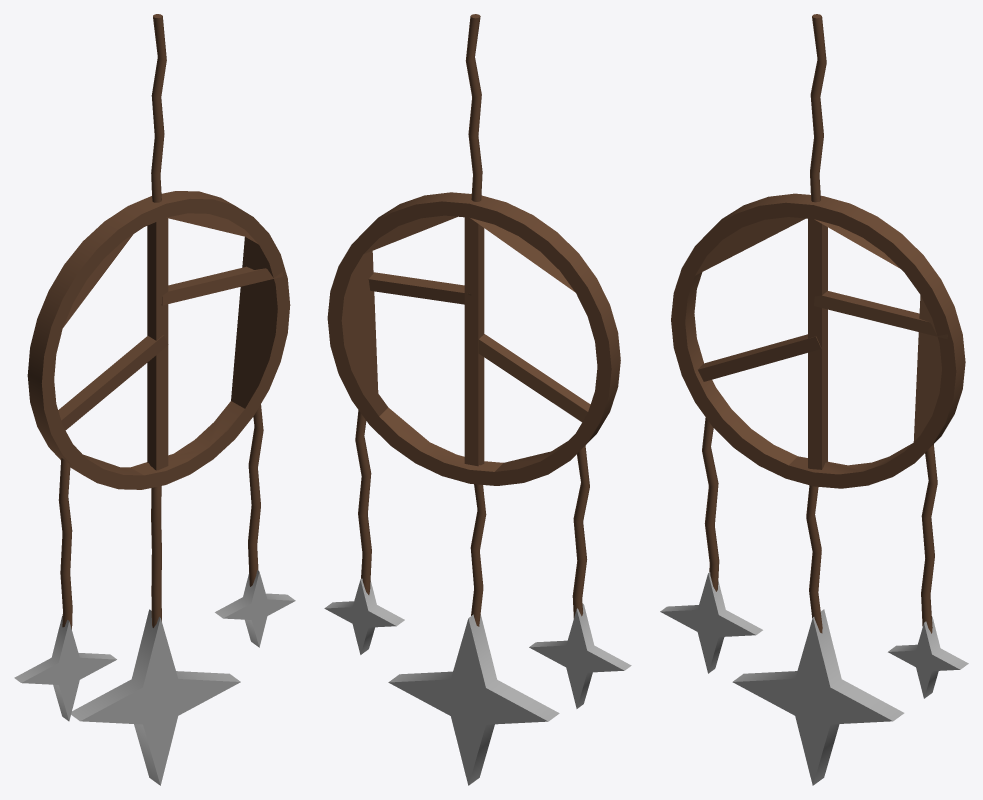
The model's file is guazhui.fbx.
3 renders of one model, left to right at view 1: azimuth 30°, elevation 25°; view 2: azimuth 150°, elevation 25°; view 3: azimuth 330°, elevation 25°, orthographic.
Visible parts, largest first — view 1: polySurface53, pCube1, polySurface55, pCube2, polySurface54, pCube3, polySurface56, polySurface57, polySurface60, polySurface58, polySurface59; view 2: polySurface53, pCube1, polySurface55, pCube2, polySurface54, pCube3, polySurface57, polySurface56, polySurface58, polySurface60, polySurface59; view 3: polySurface53, pCube1, polySurface55, pCube2, polySurface54, polySurface56, pCube3, polySurface57, polySurface58, polySurface60, polySurface59.
Boxes of the visible parts, x1,y1,x2,y2 form: polySurface53: (27,191,290,489); pCube1: (71,609,240,785); polySurface55: (147,218,168,470); pCube2: (14,616,116,721); polySurface54: (58,335,168,430); pCube3: (215,570,295,647); polySurface56: (161,266,282,305); polySurface57: (151,14,166,202); polySurface60: (58,458,72,629); polySurface58: (248,404,263,586); polySurface59: (151,486,161,627); polySurface53: (327,192,620,485); pCube1: (388,614,559,785); polySurface55: (464,217,484,466); pCube2: (529,604,631,708); polySurface54: (478,334,590,421); pCube3: (324,578,404,654); polySurface57: (465,14,482,201); polySurface56: (368,272,471,304); polySurface58: (355,410,371,594); polySurface60: (572,445,589,618); polySurface59: (470,484,486,626); polySurface53: (671,193,965,488); pCube1: (732,609,904,785); polySurface55: (808,218,827,469); pCube2: (660,572,762,673); polySurface54: (698,334,821,381); polySurface56: (814,291,947,339); pCube3: (888,616,968,698); polySurface57: (810,14,826,202); polySurface58: (921,444,937,633); polySurface60: (702,417,719,591); polySurface59: (806,485,822,633).
Size of the model in its own units: 180 by 458 by 32.61.
